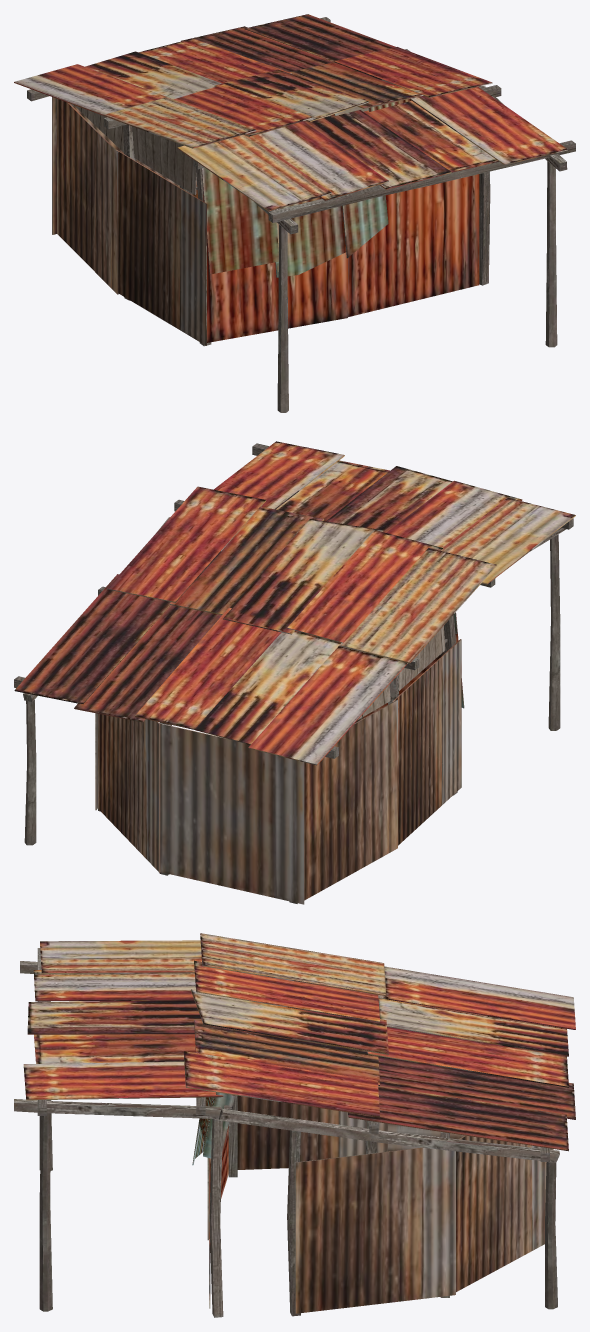
File: farmpoor.glb
The picture shows the model from 3 angles, top to bottom: view 1: azimuth 30°, elevation 25°; view 2: azimuth 150°, elevation 25°; view 3: azimuth 270°, elevation 25°; orthographic projection. The views are drawn at different scales.
Visible parts, largest first — view 1: Cube_0, Cube.002_2, Cube.003_3, Cube.001_1, Cube.041_41, Cube.037_37, Cube.007_7, Cube.039_39, Cube.038_38, Cube.016_16, Cube.040_40, Cube.020_20 (+17 smaller); view 2: Cube.004_4, Cube.003_3, Cube.002_2, Cube.021_21, Cube.020_20, Cube.016_16, Cube.025_25, Cube.005_5, Cube.018_18, Cube.023_23, Cube.022_22, Cube.017_17 (+10 smaller); view 3: Cube.006_6, Cube.005_5, Cube.020_20, Cube.025_25, Cube.021_21, Cube.041_41, Cube.016_16, Cube.018_18, Cube.039_39, Cube.024_24, Cube.023_23, Cube.002_2 (+16 smaller).
Boxes of the visible parts, x1,y1,x2,y2 form: Cube_0: [348, 174, 479, 316]; Cube.002_2: [116, 149, 206, 345]; Cube.003_3: [57, 99, 118, 294]; Cube.001_1: [203, 194, 347, 342]; Cube.041_41: [410, 87, 567, 165]; Cube.037_37: [177, 134, 331, 211]; Cube.007_7: [201, 167, 278, 274]; Cube.039_39: [304, 110, 451, 189]; Cube.038_38: [252, 121, 388, 200]; Cube.016_16: [103, 97, 256, 148]; Cube.040_40: [363, 100, 498, 172]; Cube.020_20: [333, 47, 492, 97]; Cube.004_4: [160, 723, 304, 904]; Cube.003_3: [304, 699, 397, 900]; Cube.002_2: [392, 639, 461, 845]; Cube.021_21: [248, 642, 407, 765]; Cube.020_20: [107, 486, 266, 602]; Cube.016_16: [341, 548, 496, 663]; Cube.025_25: [14, 574, 170, 703]; Cube.005_5: [98, 713, 160, 872]; Cube.018_18: [223, 519, 383, 634]; Cube.023_23: [135, 607, 281, 729]; Cube.022_22: [195, 630, 340, 744]; Cube.017_17: [287, 530, 443, 642]; Cube.006_6: [295, 1147, 455, 1313]; Cube.005_5: [456, 1135, 553, 1291]; Cube.020_20: [183, 1051, 379, 1117]; Cube.025_25: [348, 1086, 568, 1151]; Cube.021_21: [378, 966, 575, 1029]; Cube.041_41: [23, 1061, 223, 1100]; Cube.016_16: [200, 933, 386, 995]; Cube.018_18: [191, 989, 388, 1054]; Cube.039_39: [27, 1000, 201, 1034]; Cube.024_24: [378, 1056, 575, 1119]; Cube.023_23: [367, 1027, 568, 1087]; Cube.002_2: [237, 1095, 387, 1169].
Size of the model in its own units: 4.18 by 2.78 by 6.14.
3 materials, 3 textured.
